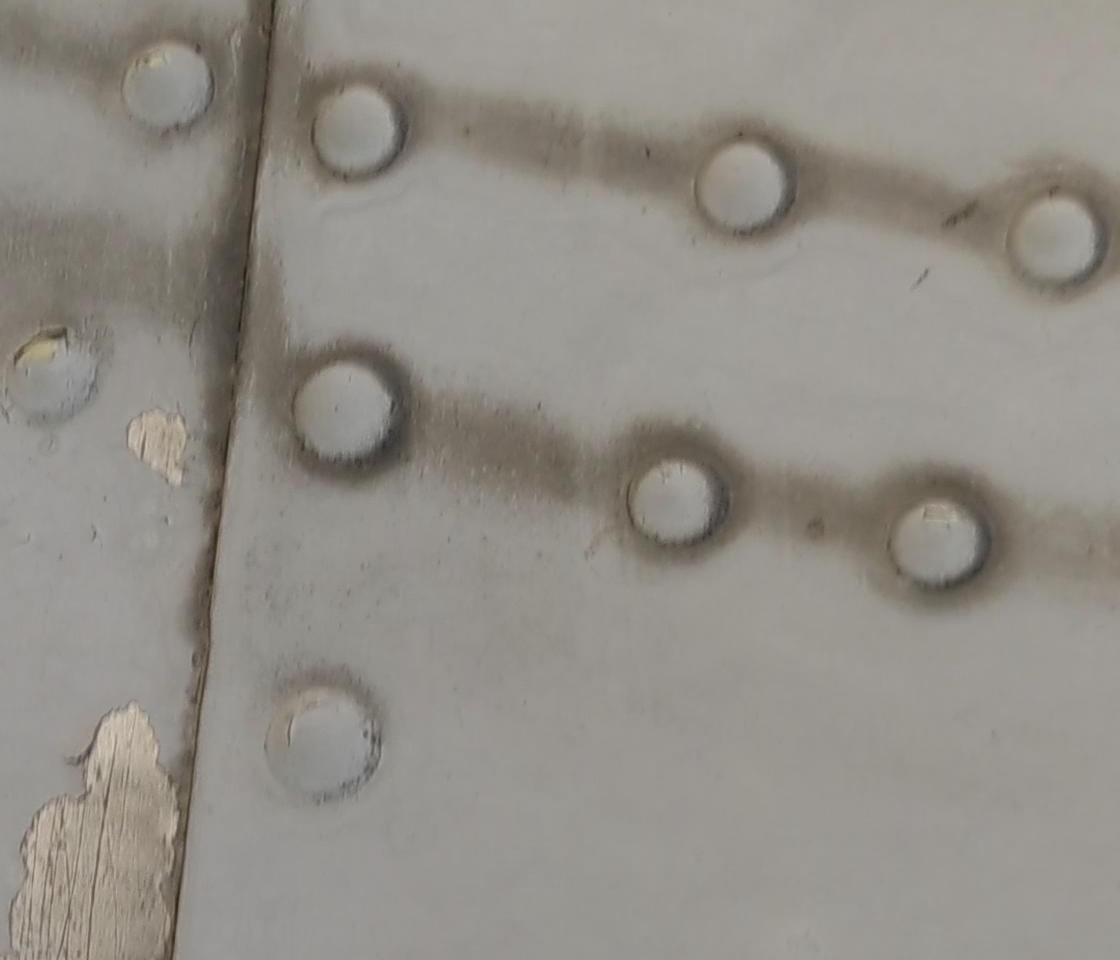paint_peel: (5, 696, 178, 960), (114, 400, 199, 497)
